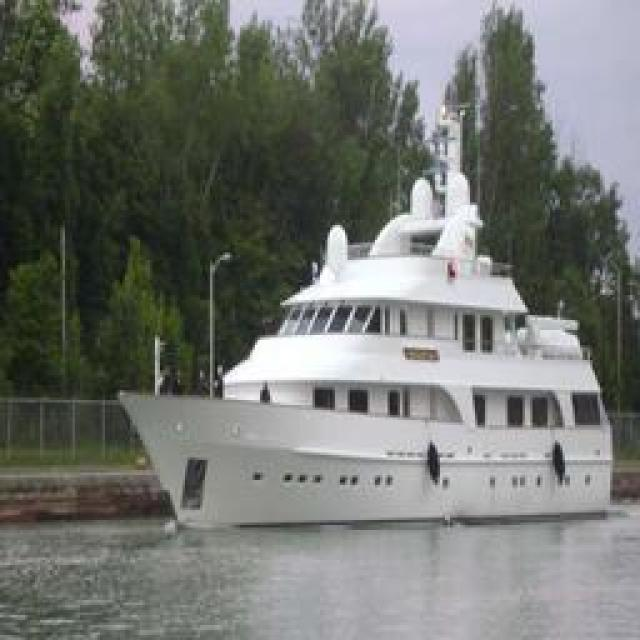ship2: (120, 105, 615, 531)
